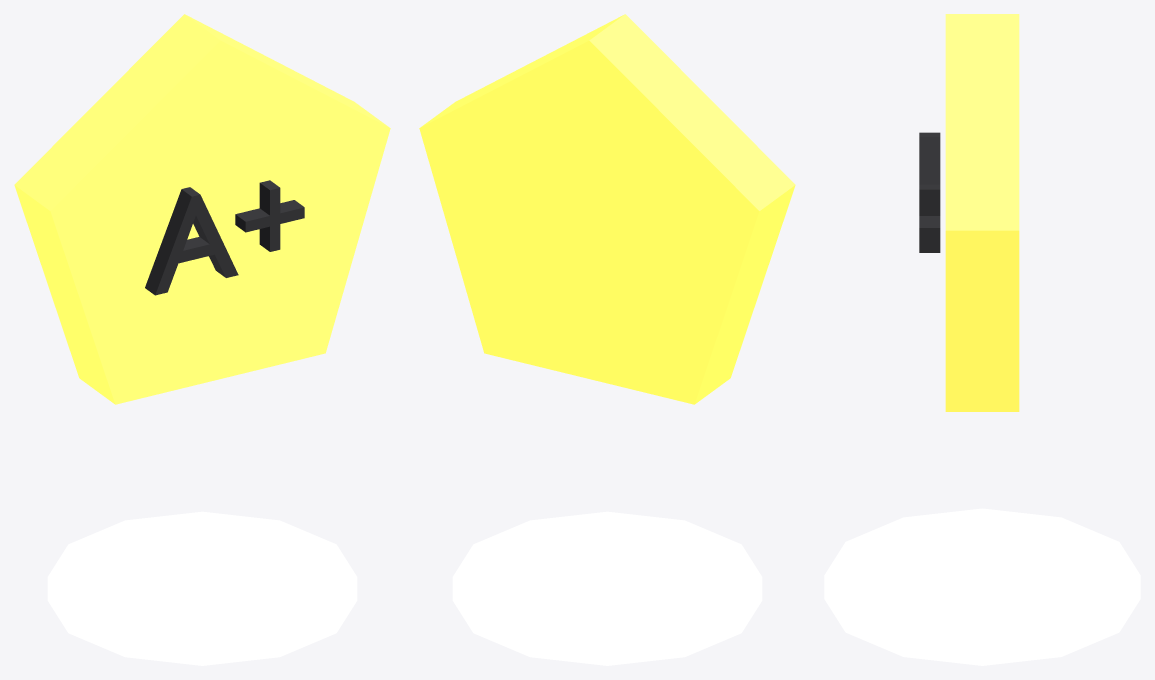
File: PK_CGPABoost.glb
3 renders of one model, left to right at view 1: azimuth 30°, elevation 25°; view 2: azimuth 150°, elevation 25°; view 3: azimuth 270°, elevation 25°, orthographic. The views are drawn at different scales.
Visible parts, largest first — view 1: PK_CGPABoost; view 2: PK_CGPABoost; view 3: PK_CGPABoost.
Part boxes in pixels (x1,y1,x2,y2): PK_CGPABoost: (14,14,390,665); PK_CGPABoost: (419,14,795,665); PK_CGPABoost: (824,14,1140,665).
Size of the model in its own units: 0.7608 by 1.22 by 0.6.
